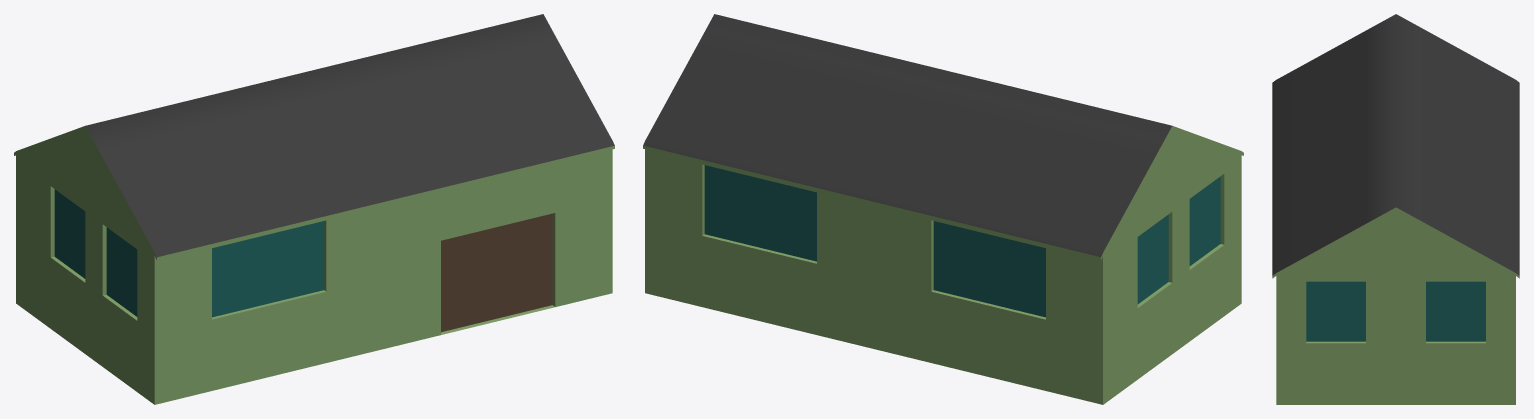
The model's file is House2-2.fbx.
3 renders of one model, left to right at view 1: azimuth 30°, elevation 25°; view 2: azimuth 150°, elevation 25°; view 3: azimuth 270°, elevation 25°, orthographic. The views are drawn at different scales.
Visible parts, largest first — view 1: pCube1.003; view 2: pCube1.003; view 3: pCube1.003.
Boxes of the visible parts, <box> form: pCube1.003: <box>14,14,614,404</box>; pCube1.003: <box>643,14,1243,404</box>; pCube1.003: <box>1272,14,1519,404</box>.
Bounding box in the file's own units: 23.9 × 11.4 × 12.91.
